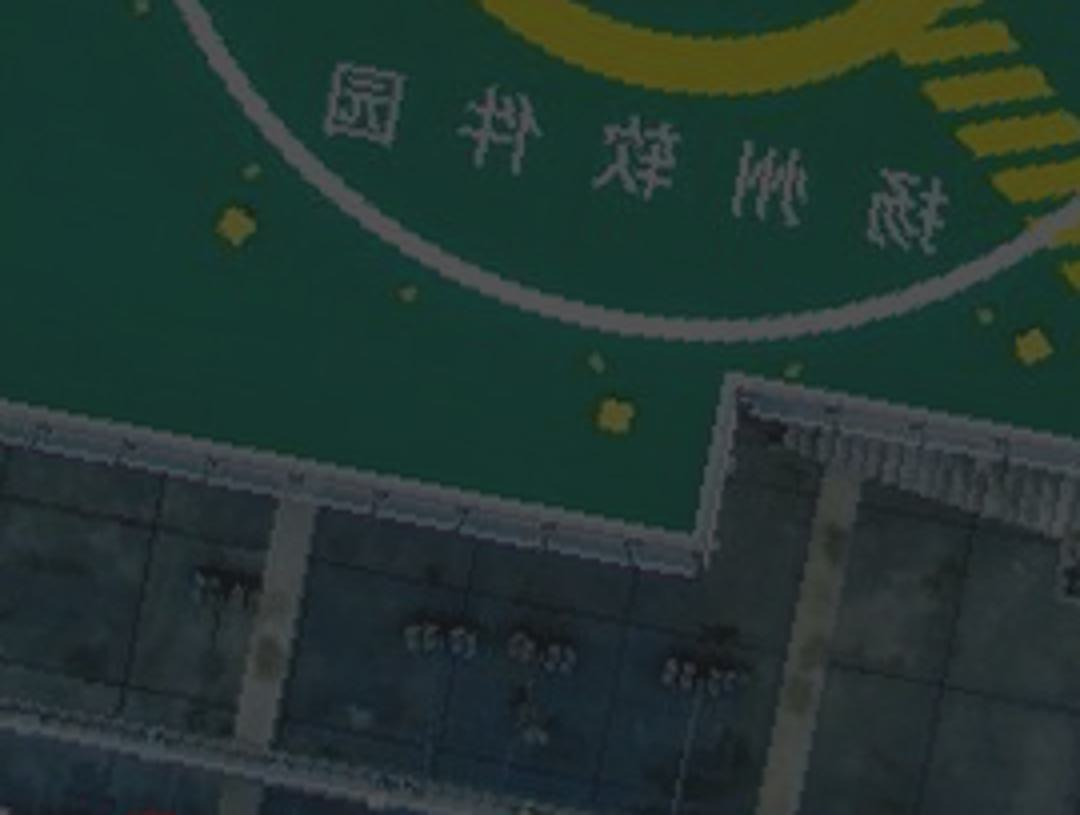Apron: (449, 1, 984, 103)
